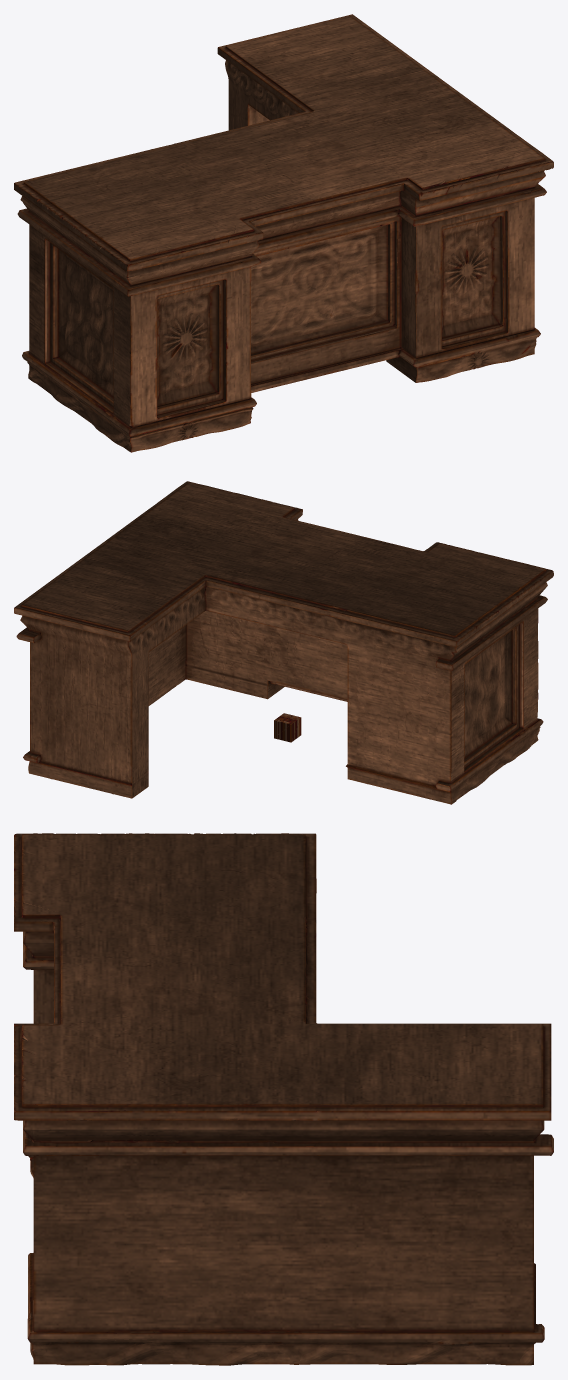
Rendered from desk.fbx.
3 views of the same model, one above another, from view 1: azimuth 30°, elevation 25°; view 2: azimuth 150°, elevation 25°; view 3: azimuth 270°, elevation 25° (orthographic). The views are drawn at different scales.
Visible parts, largest first — view 1: LowResolutionDesk; view 2: LowResolutionDesk; view 3: LowResolutionDesk.
Part boxes in pixels (x1,y1,x2,y2): LowResolutionDesk: [14, 14, 553, 452]; LowResolutionDesk: [14, 481, 553, 804]; LowResolutionDesk: [14, 833, 553, 1365].
Bounding box in the file's own units: 320 × 142 × 263.
Materials: 1 (1 with a texture image).
